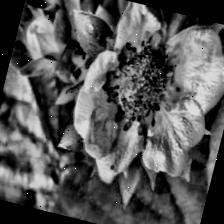Blossom Blight: (90, 19, 198, 146)
